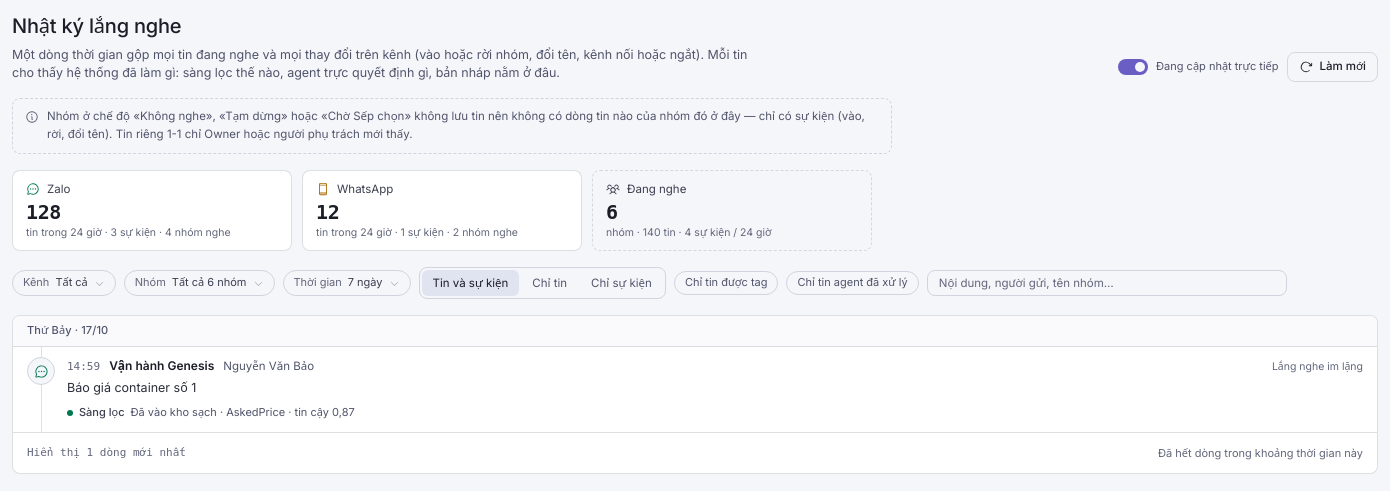
Test: cập nhật trực tiếp qua WebSocket › tắt "Cập nhật trực tiếp" thì tín hiệu bị bỏ qua
The width and height of the screenshot is (1390, 491).
Expected: the text "Báo giá container số 1" is shown, [67, 380, 196, 395]
Click the switch named "Cập nhật trực tiếp" at coordinates (1133, 67), box [1118, 59, 1148, 75]
Wait 5000 ms
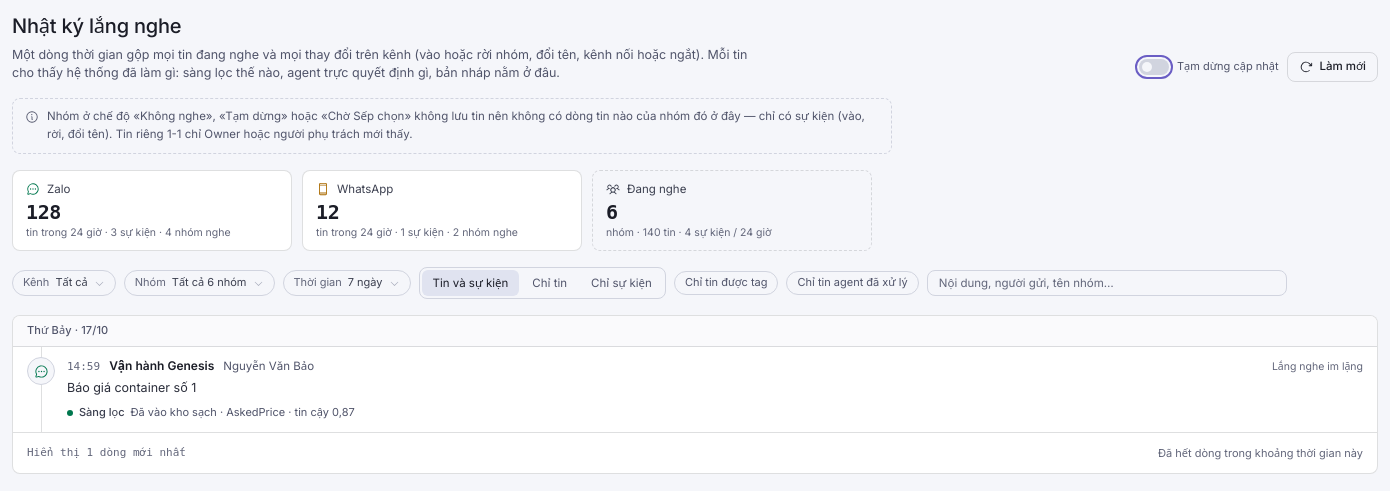
Now the text "Tạm dừng cập nhật" is shown, box [1177, 59, 1278, 75]
